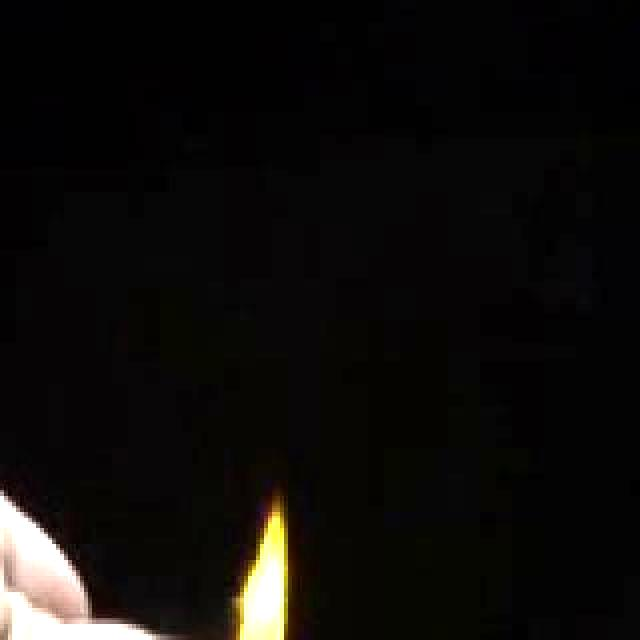fire: (218, 482, 290, 640)
